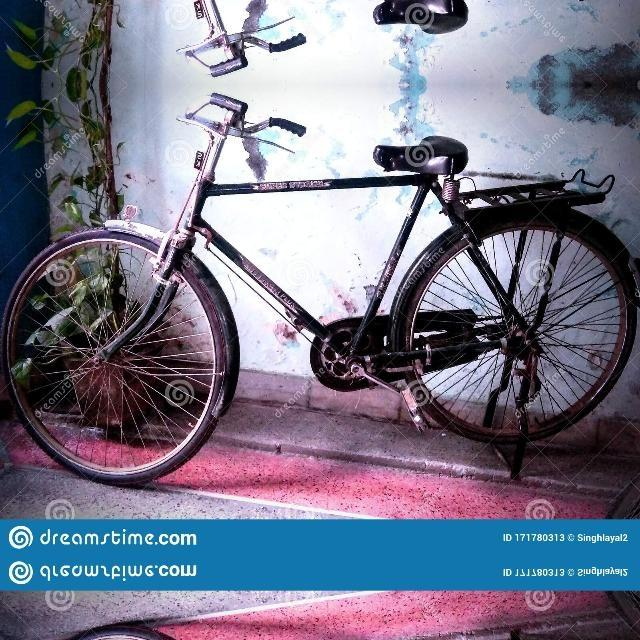obstacle: (3, 90, 640, 477), (3, 0, 640, 77), (3, 630, 640, 640)
